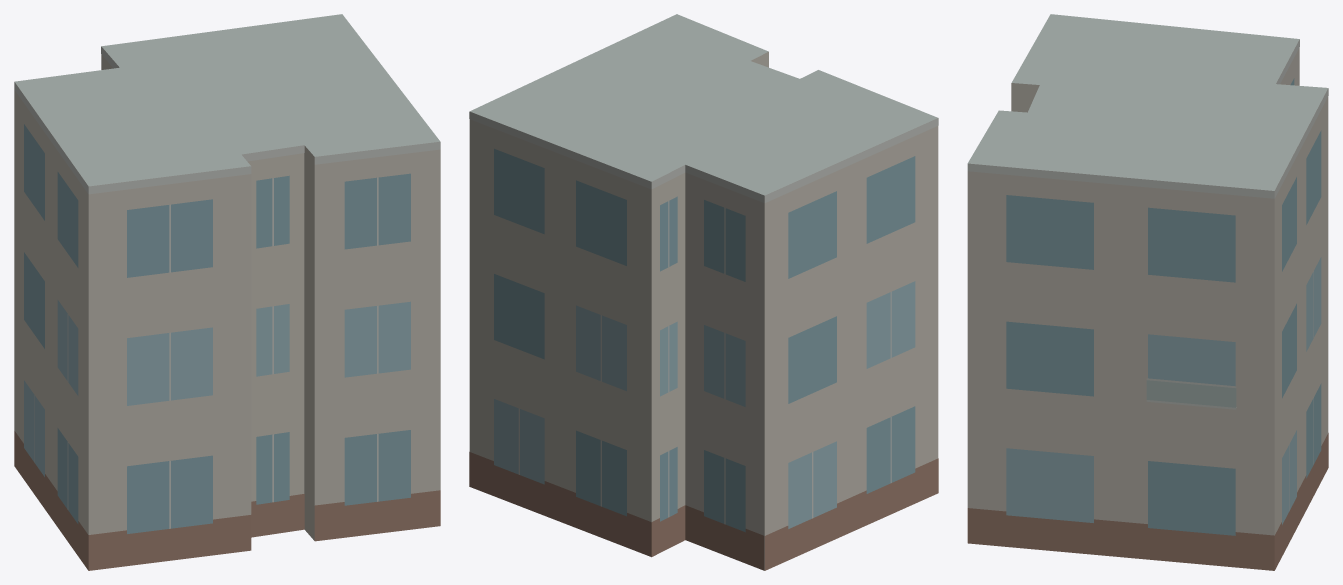
Rendered from survey-upis-32806381.glb.
The picture shows the model from 3 angles, left to right: view 1: azimuth 30°, elevation 25°; view 2: azimuth 150°, elevation 25°; view 3: azimuth 270°, elevation 25°; orthographic projection. The views are drawn at different scales.
Visible parts, largest first — view 1: survey-upis-32806381.tmp; view 2: survey-upis-32806381.tmp; view 3: survey-upis-32806381.tmp.
Part boxes in pixels (bbox=[...]): survey-upis-32806381.tmp: bbox=[14, 14, 440, 570]; survey-upis-32806381.tmp: bbox=[469, 14, 938, 570]; survey-upis-32806381.tmp: bbox=[967, 14, 1328, 570].
Size of the model in its own units: 11.9 by 11.9 by 10.26.
